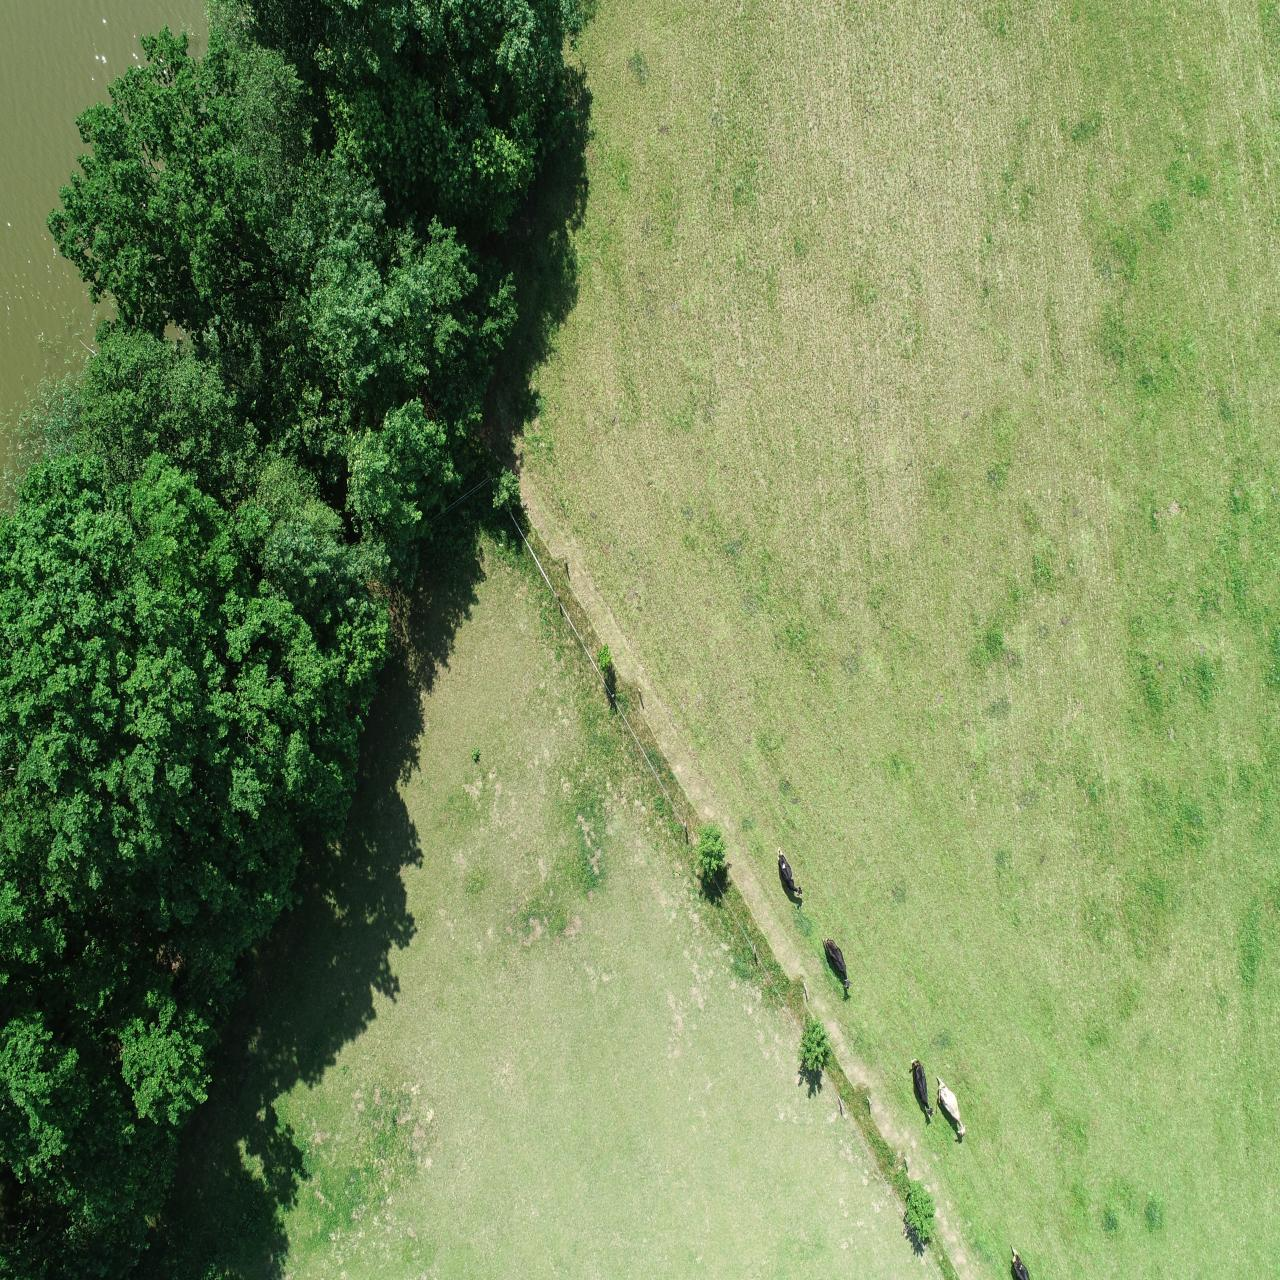cow: (934, 1075, 968, 1137), (818, 933, 853, 991), (909, 1058, 936, 1120), (774, 845, 803, 896)
